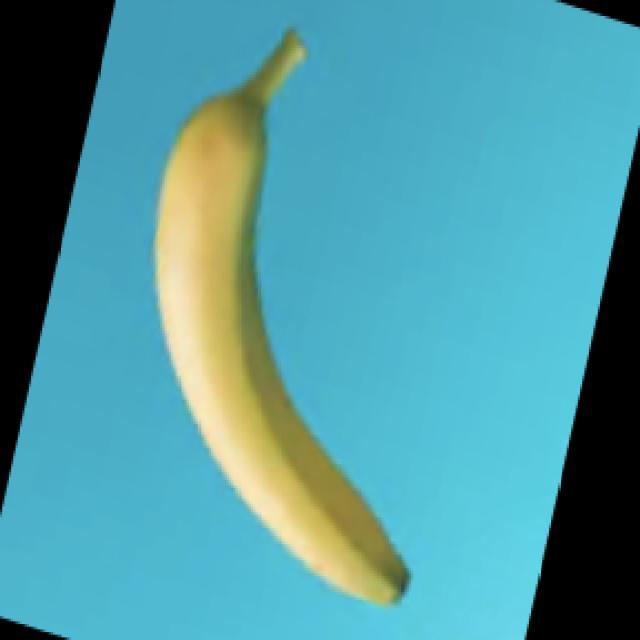Banana: (153, 25, 411, 606)
